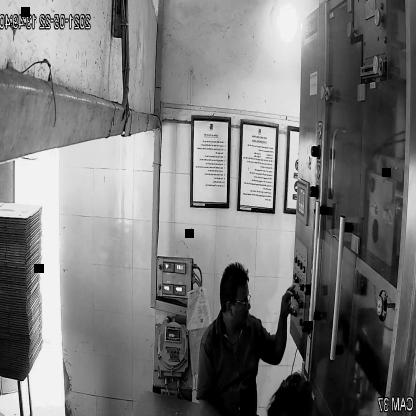goggles: (226, 292, 252, 312)
